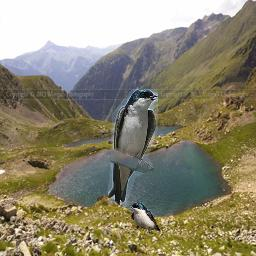Swallow: (108, 89, 158, 205), (131, 202, 161, 233)
